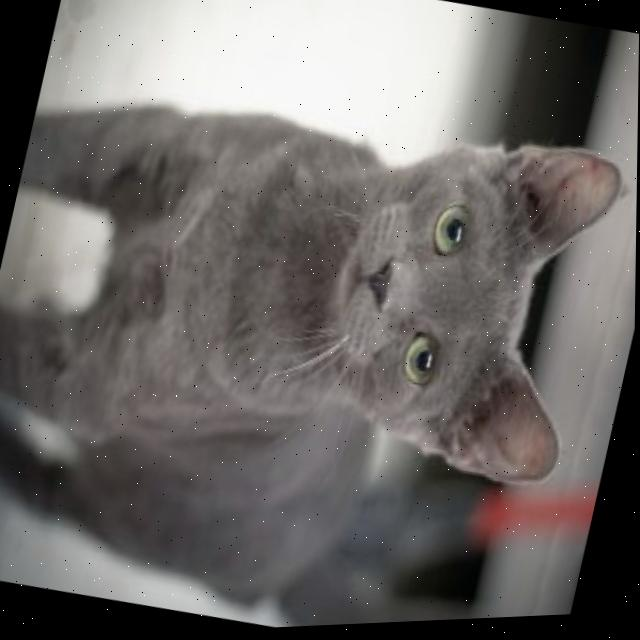Russian Blue: (0, 32, 634, 640)
